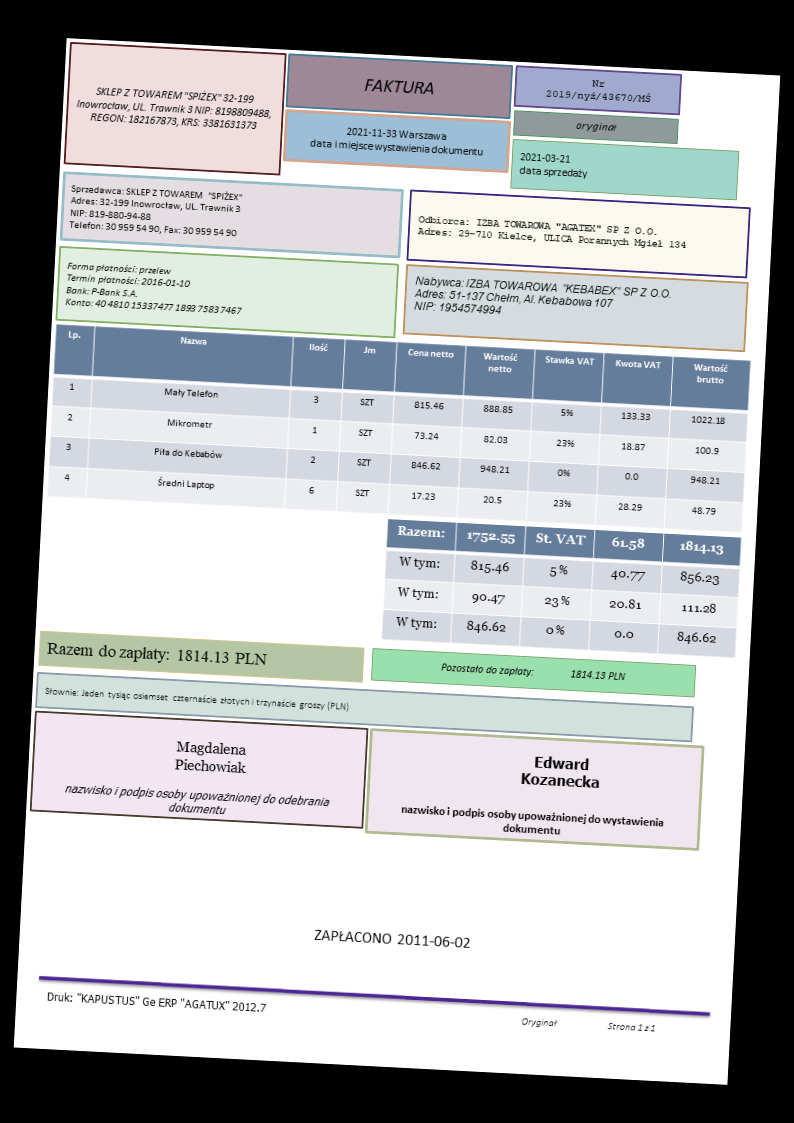Table: (43, 321, 753, 534), (379, 519, 744, 661)
TextBox: (408, 269, 677, 328), (396, 798, 669, 846), (414, 210, 691, 256), (60, 779, 334, 823), (39, 678, 354, 716), (61, 257, 247, 321), (71, 82, 276, 136), (65, 180, 244, 241), (41, 635, 267, 671), (40, 986, 270, 1020), (306, 119, 487, 159), (309, 921, 478, 957), (437, 656, 631, 687), (517, 747, 604, 795), (543, 73, 656, 109), (517, 1011, 659, 1036), (170, 736, 250, 779), (514, 146, 591, 185), (360, 73, 436, 99), (573, 119, 620, 137)
